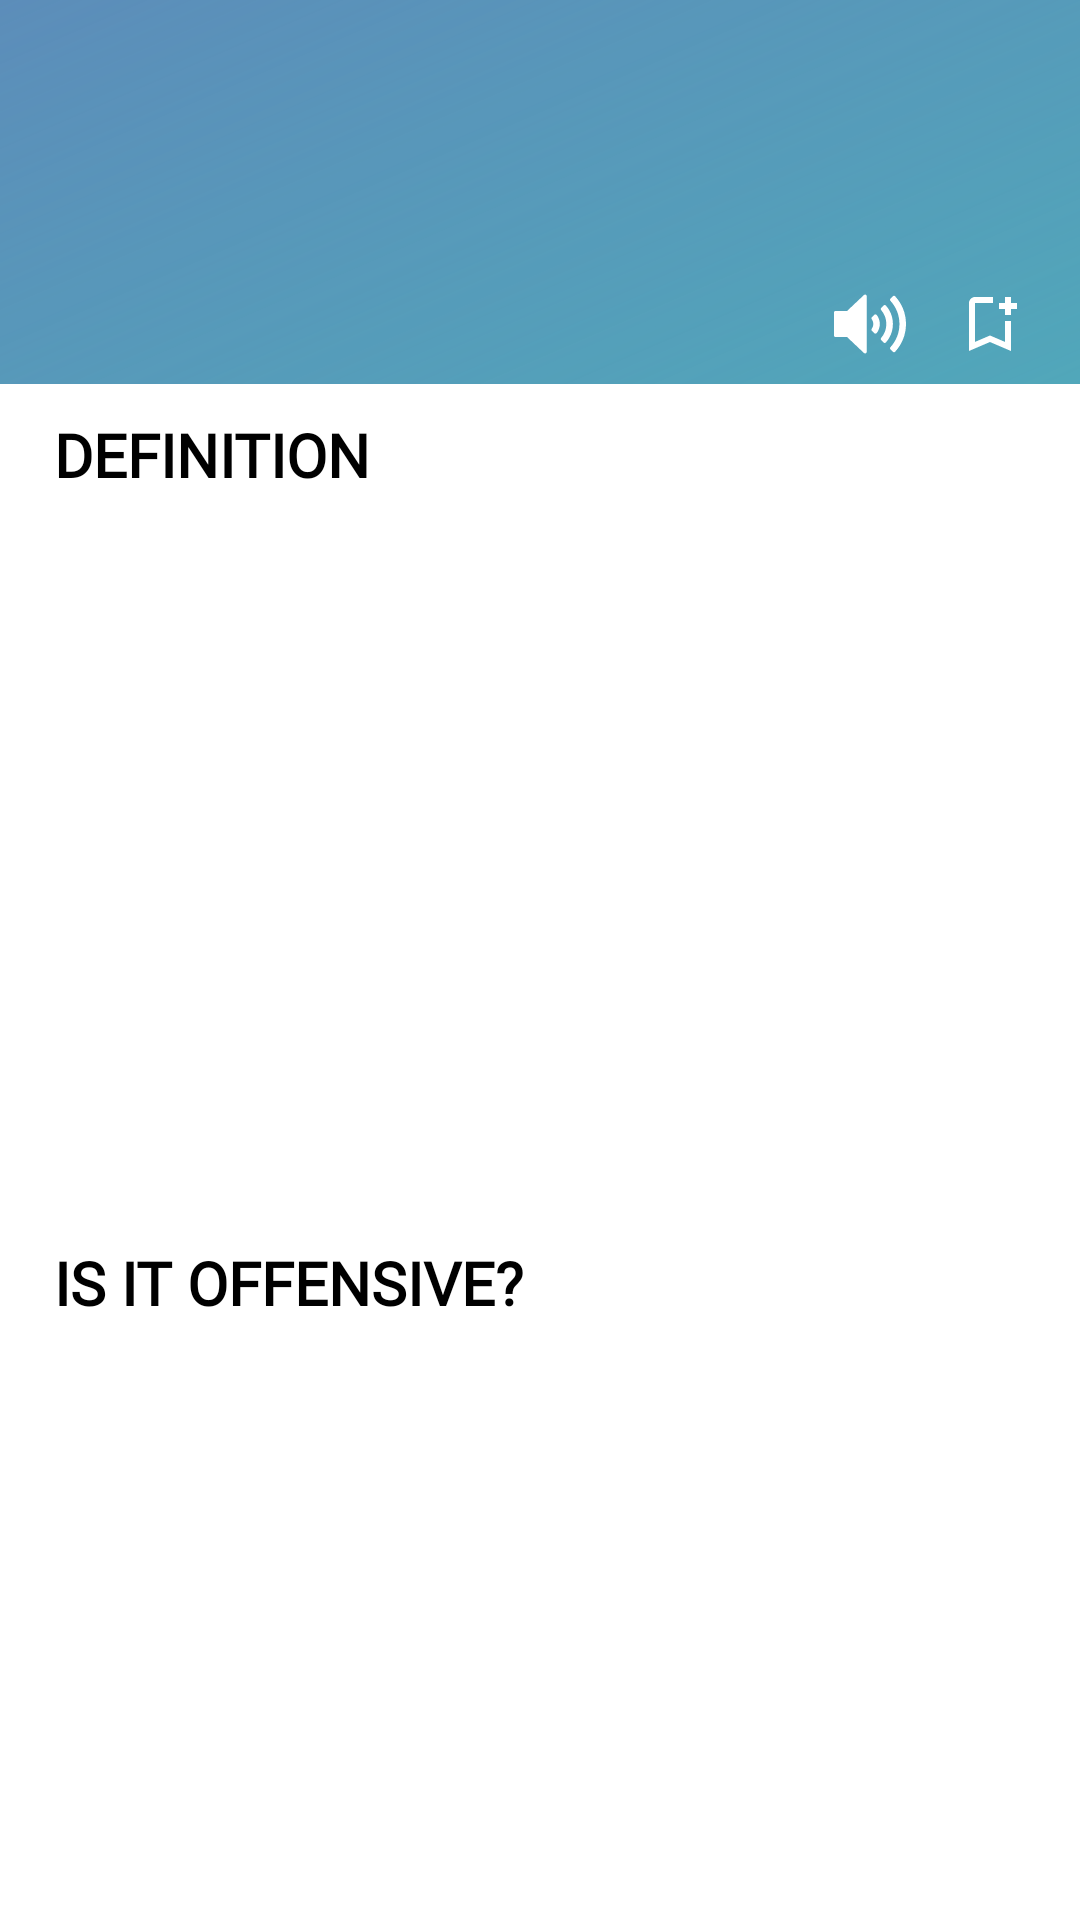

Where to tap for icons on this 1080x1920 app screen, as (x=x, y=y):
tap icon to listen to pronunciation: (x=870, y=324)
